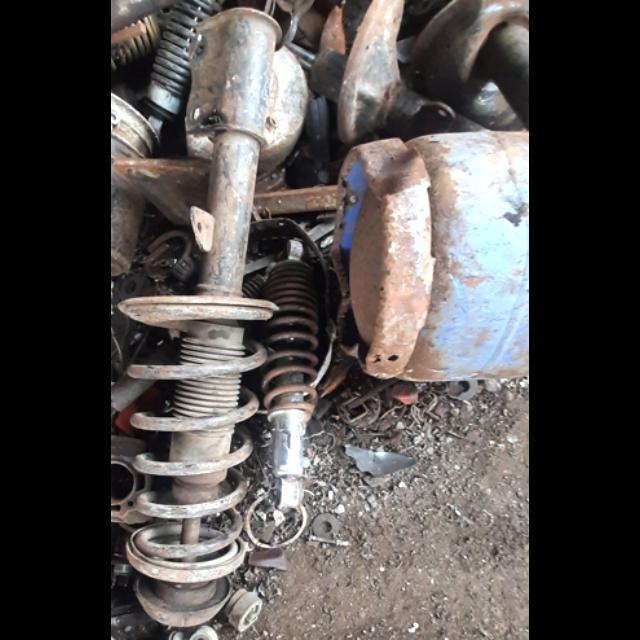Shock Absorber: (265, 262, 324, 528), (139, 0, 220, 143)
